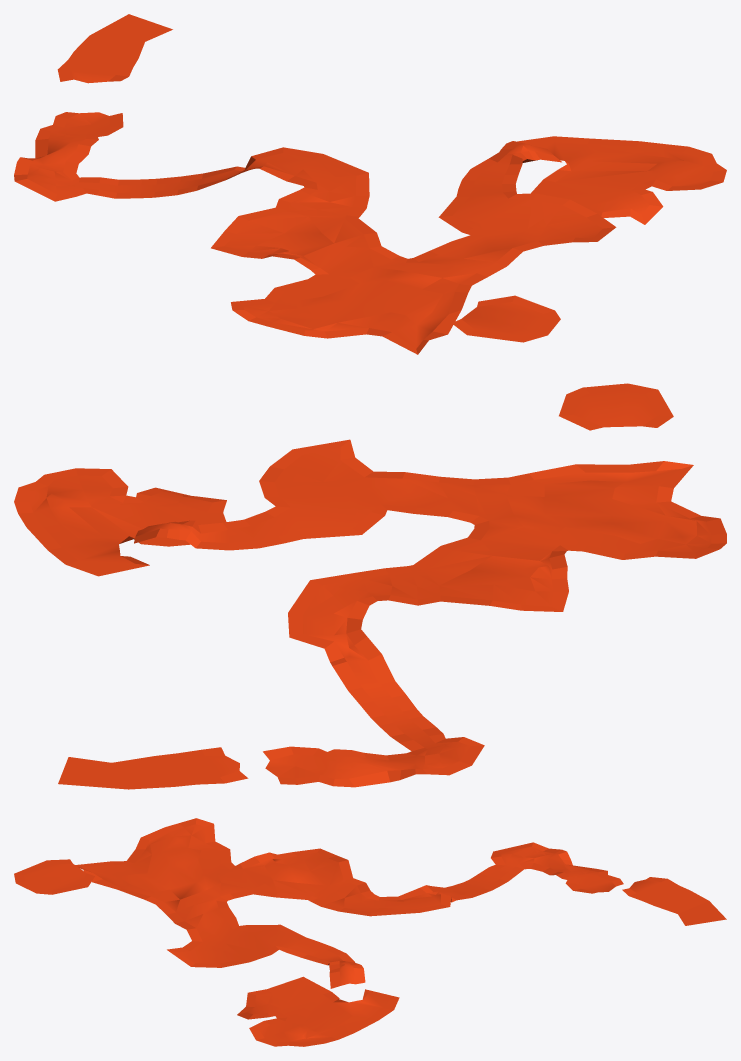
Rendered from shadow_readable.FBX.
3 renders of one model, top to bottom at view 1: azimuth 30°, elevation 25°; view 2: azimuth 150°, elevation 25°; view 3: azimuth 270°, elevation 25°, orthographic. The views are drawn at different scales.
Parts seen in each view (by area): view 1: shadow_readable; view 2: shadow_readable; view 3: shadow_readable.
Part boxes in pixels (x1,y1,x2,y2): shadow_readable: (14,14,726,354); shadow_readable: (14,383,726,789); shadow_readable: (14,818,726,1046).
Size of the model in its own units: 14584 by 1404 by 21249.
